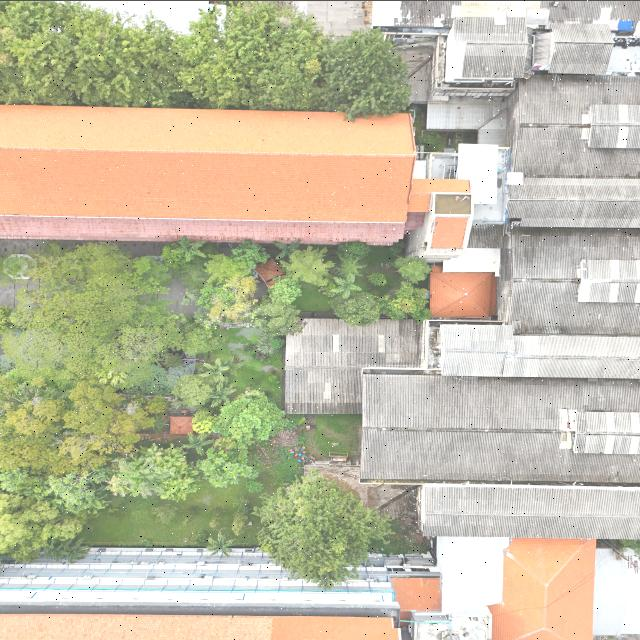Tree: (252, 470, 391, 590), (208, 390, 290, 446), (385, 280, 431, 318), (324, 269, 364, 299), (168, 234, 210, 262), (197, 358, 233, 381)
